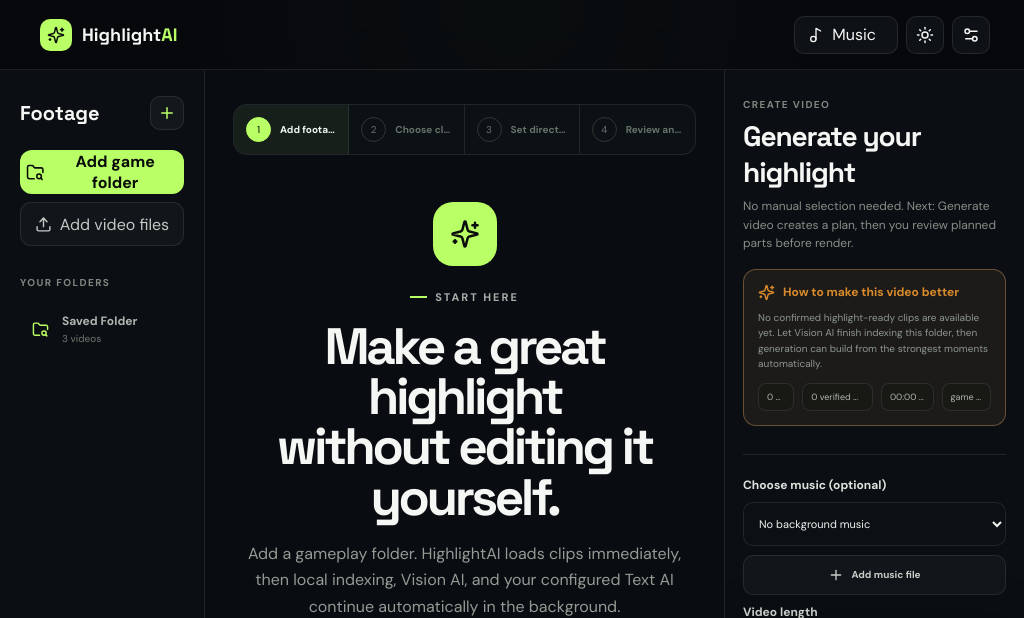
Scenario: path management › does not count generated exports as videos waiting for Vision AI review
The width and height of the screenshot is (1024, 618).
Click the button "Saved Folder 3 videos".
click(102, 329)  # box [20, 301, 184, 357]
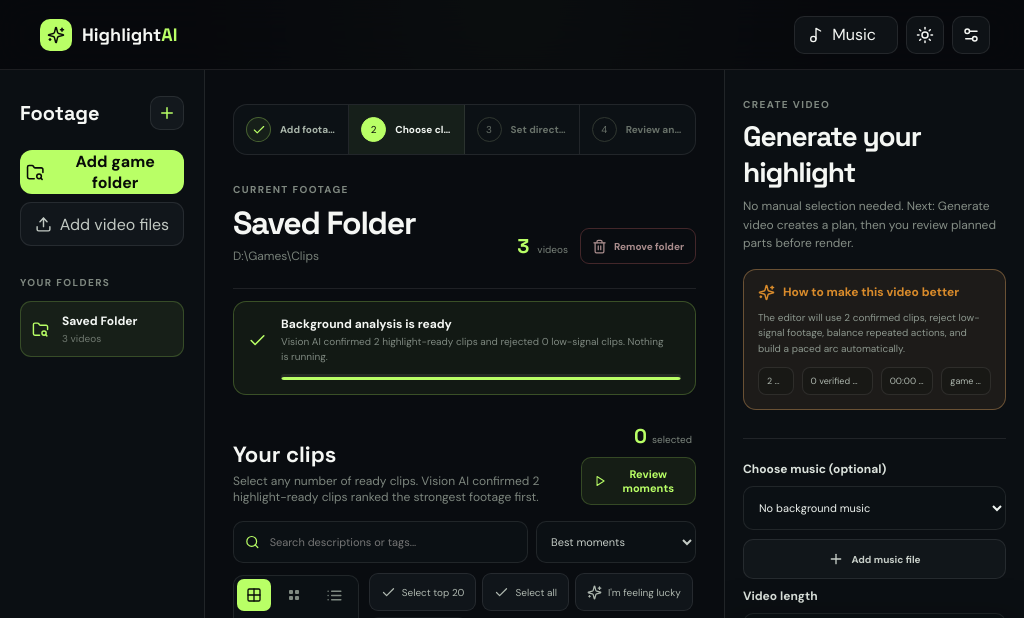
Expected: the text "Background analysis is ready" is shown, [281, 316, 452, 332]
